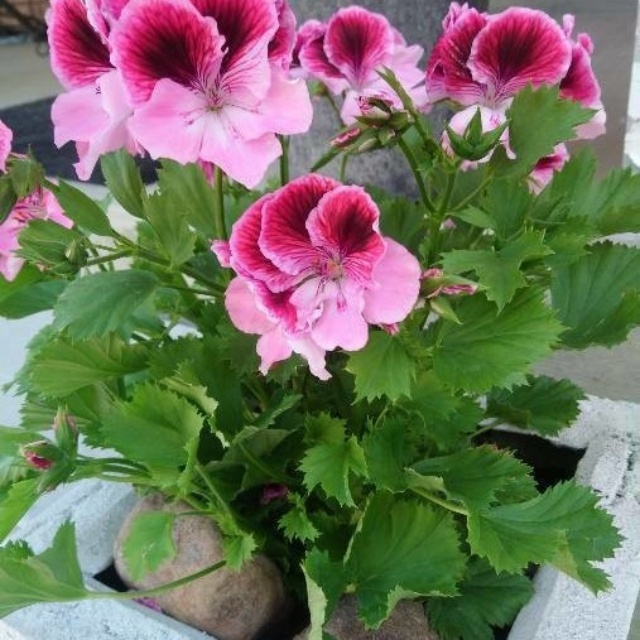obstacle: (50, 13, 608, 627)
